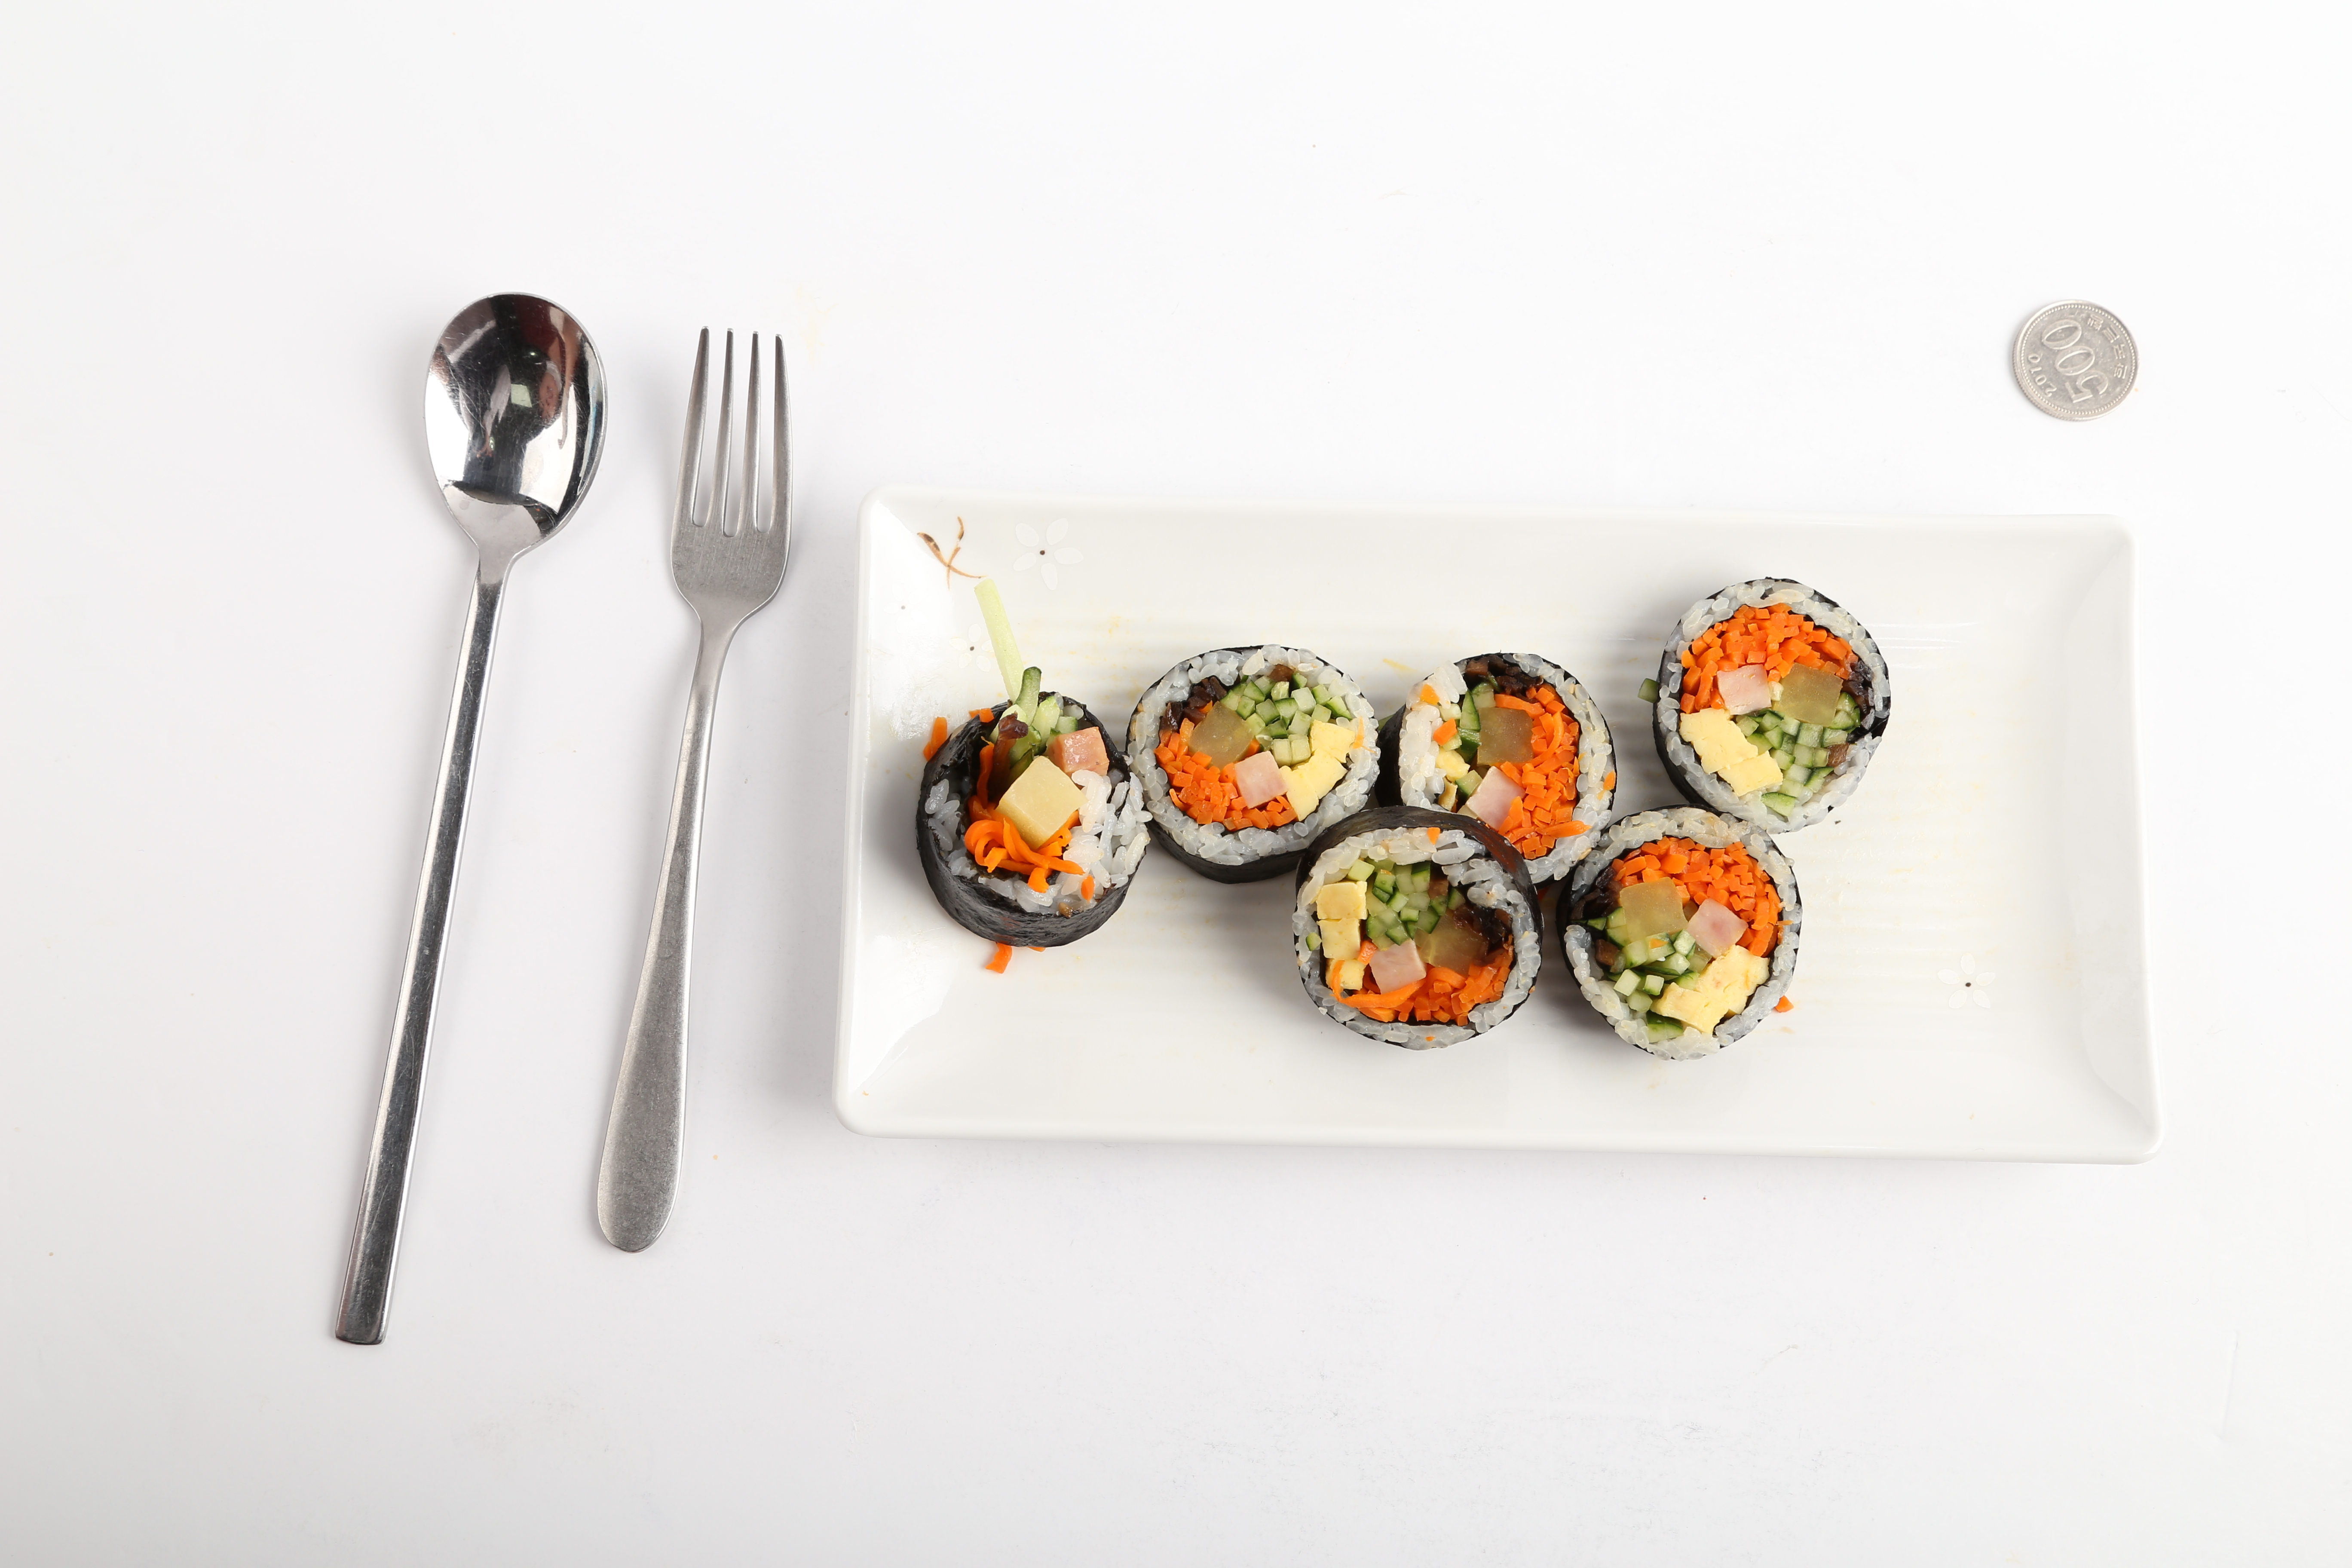dish: (849, 476, 2158, 1172)
ref_coin: (2009, 292, 2142, 427)
ref_fork: (660, 320, 798, 651)
ref_spoon: (416, 287, 609, 614)
김밥: (912, 572, 1888, 1060)
